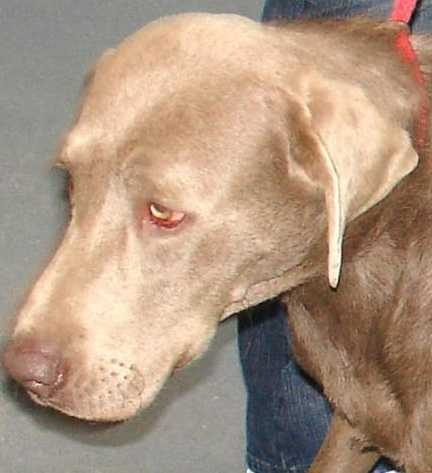dog: (0, 6, 432, 456)
